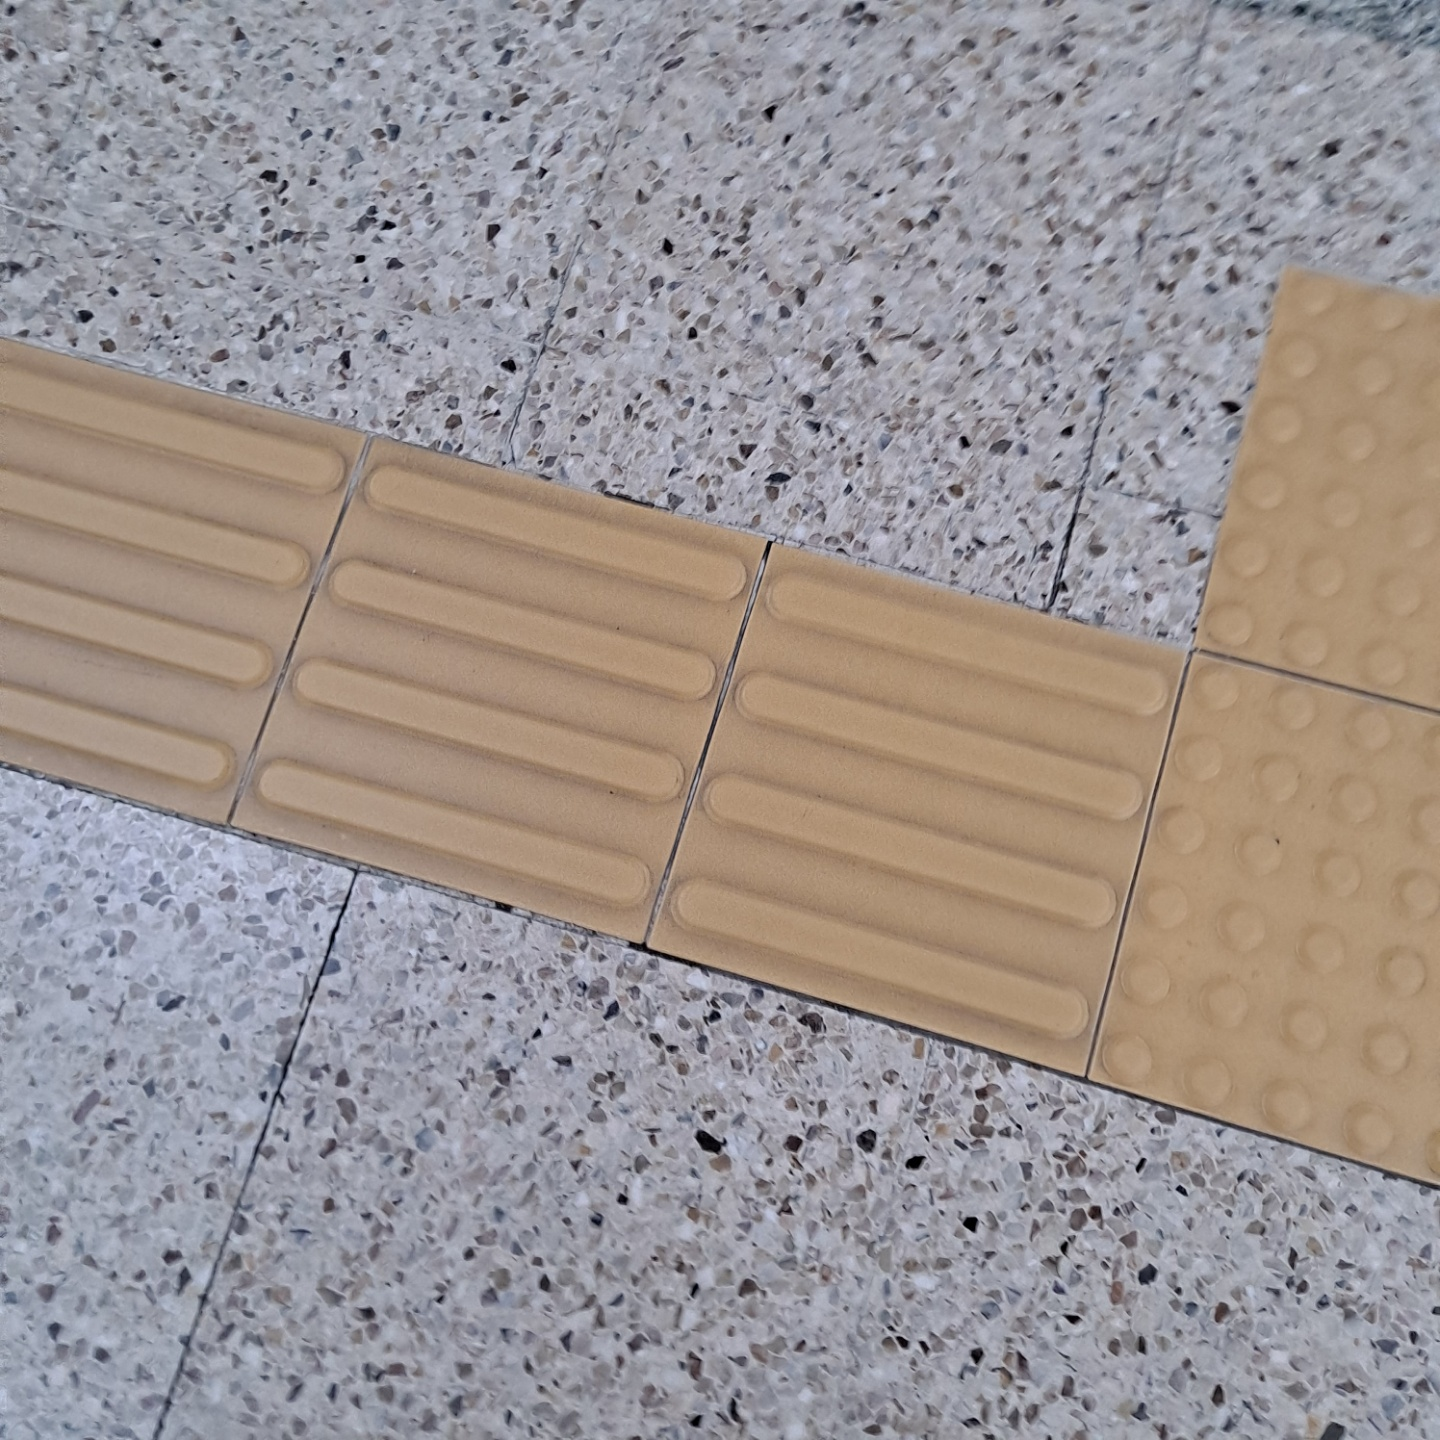guideBlock: (703, 583, 1155, 1036), (281, 493, 742, 901), (21, 361, 349, 790)
warningBlock: (1171, 675, 1440, 1127)
